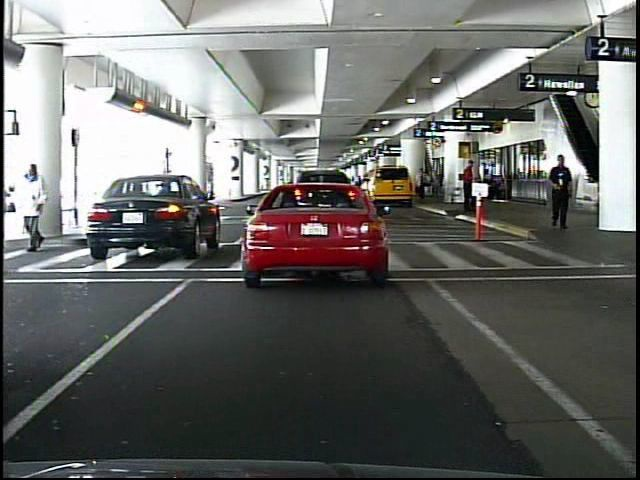person: (20, 158, 51, 255), (547, 152, 572, 232), (458, 159, 476, 215), (415, 166, 428, 202)
